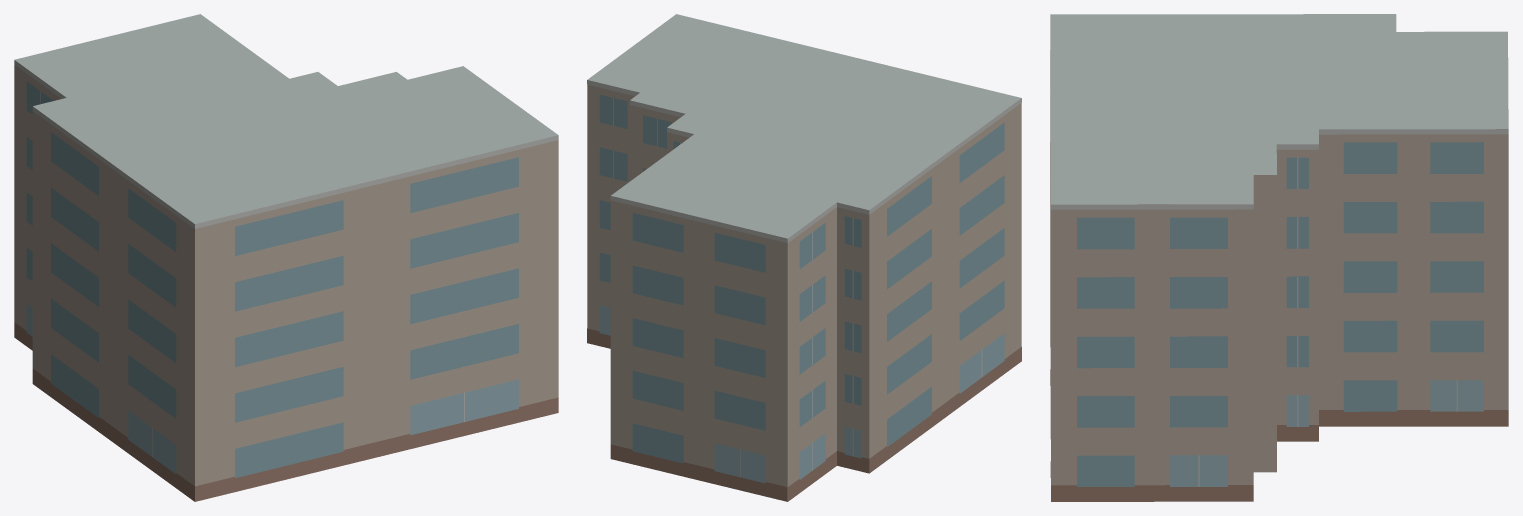
File: survey-upis-32550925.glb
The picture shows the model from 3 angles, left to right: view 1: azimuth 30°, elevation 25°; view 2: azimuth 150°, elevation 25°; view 3: azimuth 270°, elevation 25°; orthographic projection. The views are drawn at different scales.
Parts seen in each view (by area): view 1: survey-upis-32550925.tmp; view 2: survey-upis-32550925.tmp; view 3: survey-upis-32550925.tmp.
Boxes of the visible parts, <box> form: survey-upis-32550925.tmp: <box>14,14,558,501</box>; survey-upis-32550925.tmp: <box>587,14,1021,501</box>; survey-upis-32550925.tmp: <box>1050,14,1508,501</box>.
Bounding box in the file's own units: 19.26 × 14 × 19.57.
